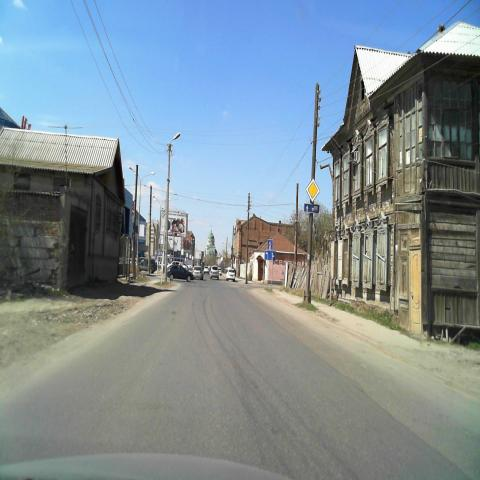6_15_1: (304, 203, 320, 213)
